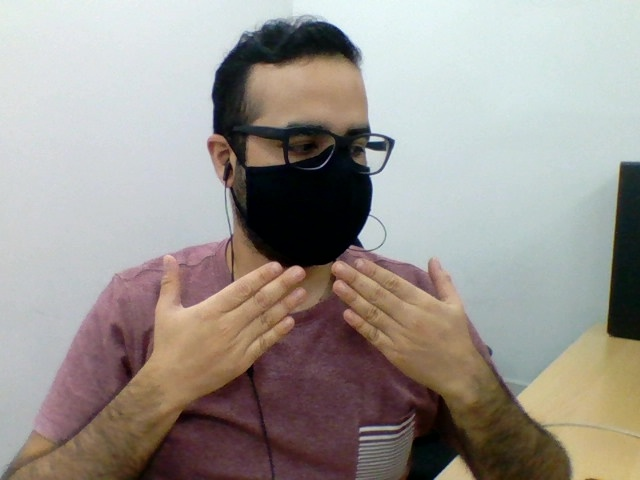ThankYou: (147, 253, 480, 414)
